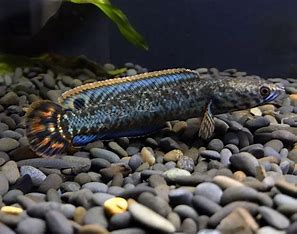Fish: (10, 68, 289, 161)
